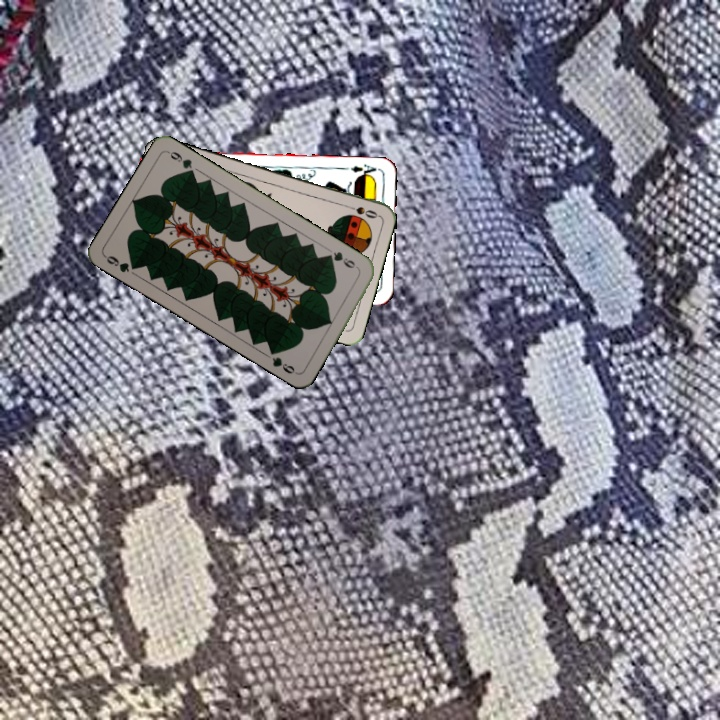EA: (347, 160, 382, 180)
G9: (323, 247, 362, 273), (101, 251, 141, 275)
SO: (341, 201, 380, 221)
